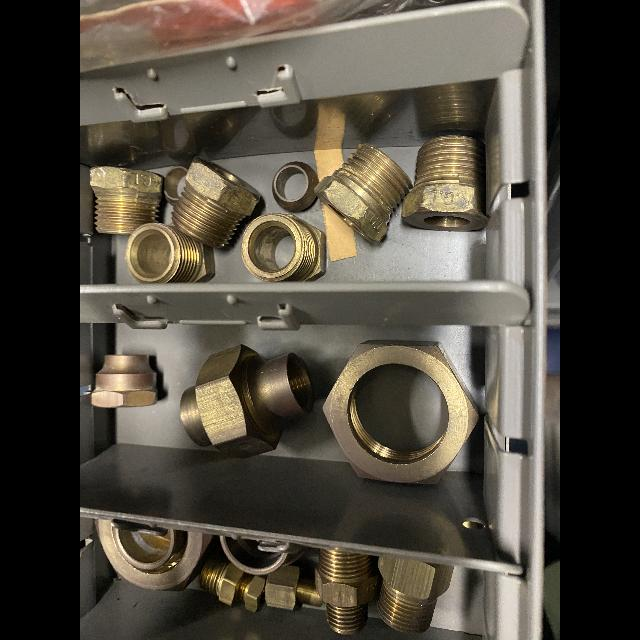Brass: (180, 345, 314, 454), (315, 144, 412, 242), (355, 364, 450, 452), (96, 520, 212, 590), (402, 135, 486, 231), (172, 158, 259, 247), (378, 557, 453, 632), (244, 214, 324, 283), (315, 549, 379, 635), (125, 223, 214, 284), (90, 166, 162, 234), (199, 552, 264, 612), (91, 355, 157, 408), (264, 565, 323, 610), (220, 536, 287, 575), (272, 161, 319, 211), (163, 166, 187, 206)
